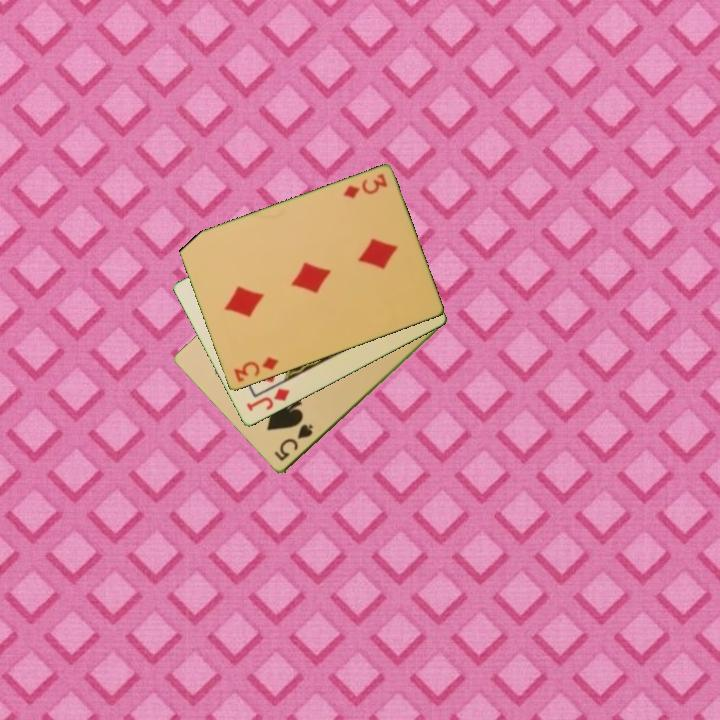3d: (339, 170, 390, 202), (230, 354, 281, 385)
5s: (271, 421, 316, 465)
Jd: (243, 385, 293, 415)
